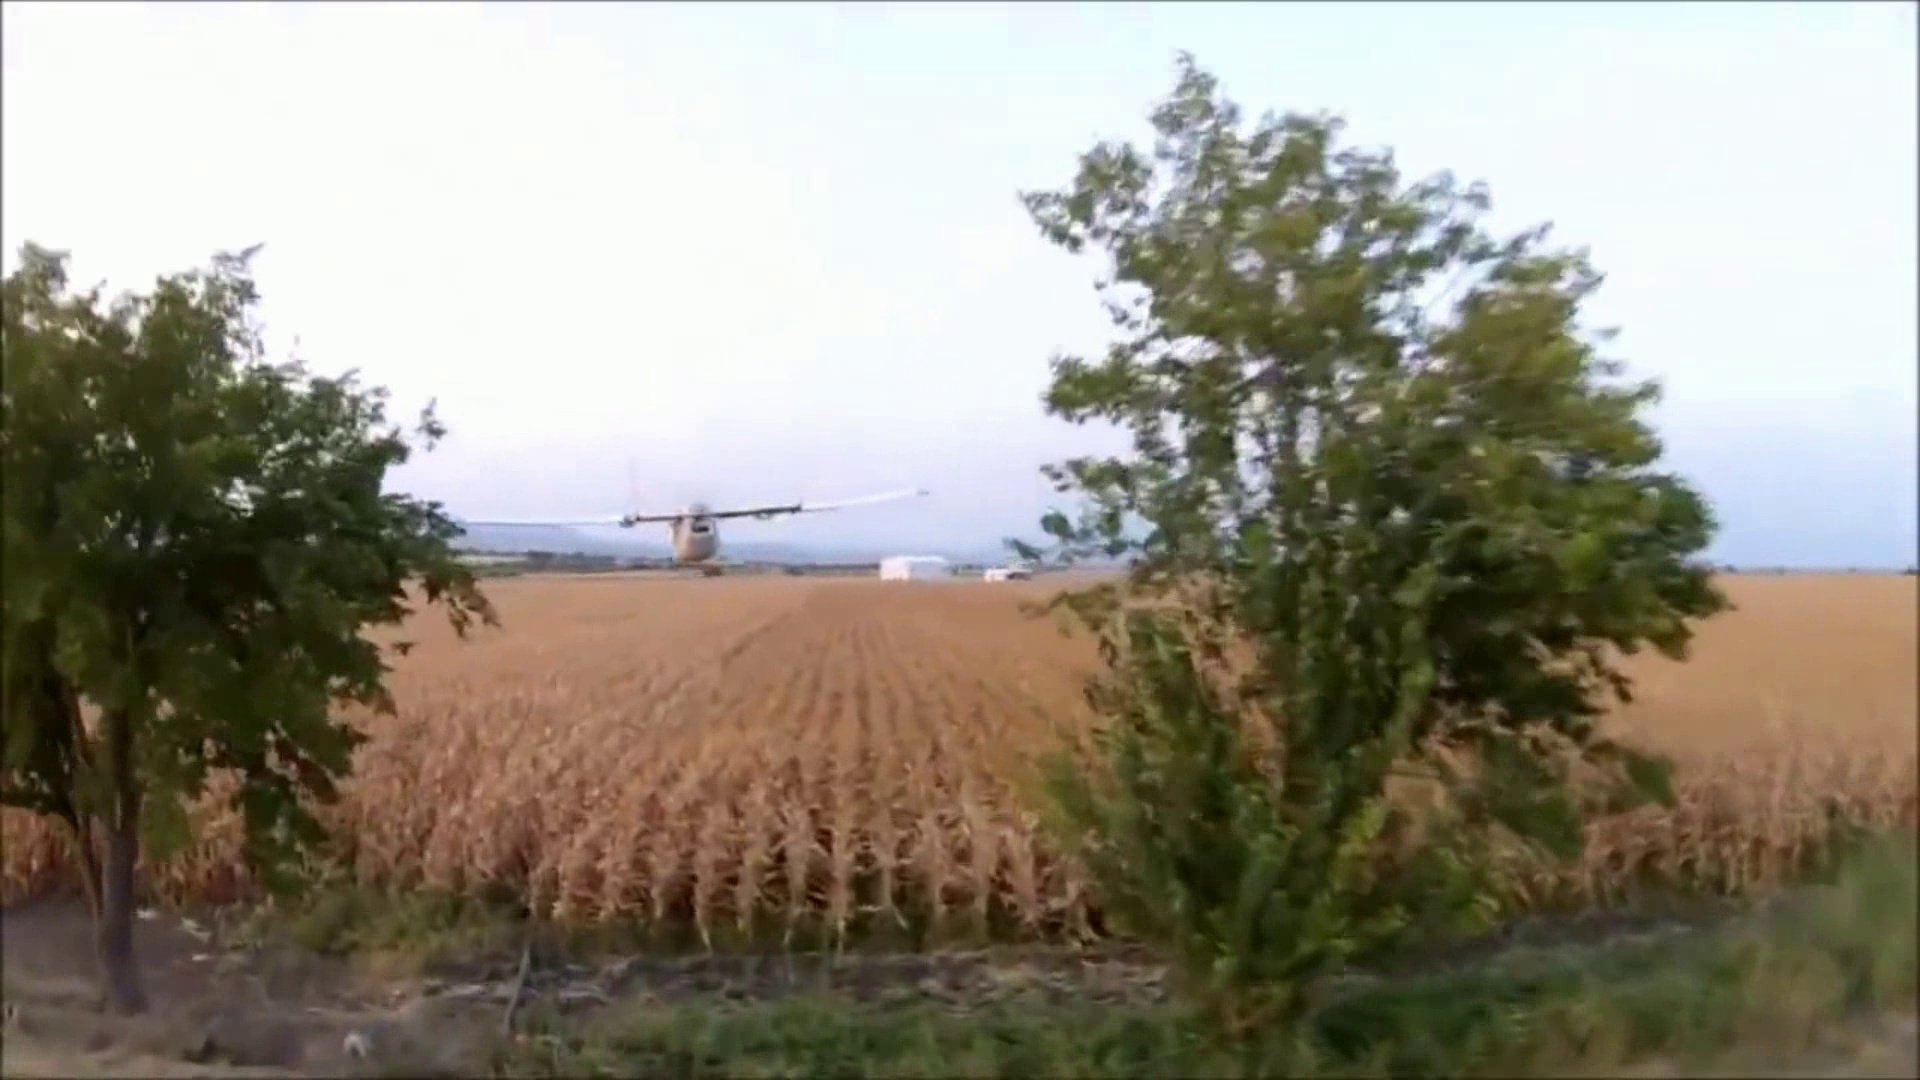airplane: (438, 491, 932, 570)
